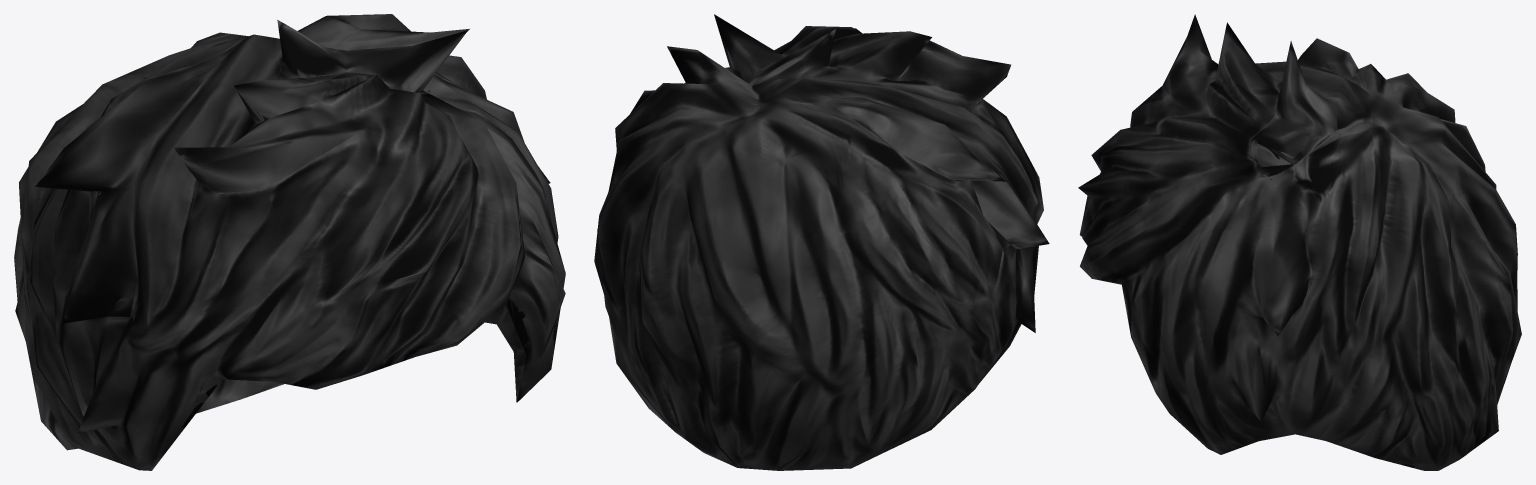
Rendered from AF_M_hair_30.fbx.
3 renders of one model, left to right at view 1: azimuth 30°, elevation 25°; view 2: azimuth 150°, elevation 25°; view 3: azimuth 270°, elevation 25°, orthographic. The views are drawn at different scales.
Parts seen in each view (by area): view 1: AF_M_hair_30; view 2: AF_M_hair_30; view 3: AF_M_hair_30.
Part boxes in pixels (box(x1,y1,x2,y2)): AF_M_hair_30: box(14, 14, 565, 470); AF_M_hair_30: box(594, 14, 1049, 470); AF_M_hair_30: box(1078, 14, 1521, 470).
Size of the model in its own units: 797 by 715 by 722.
